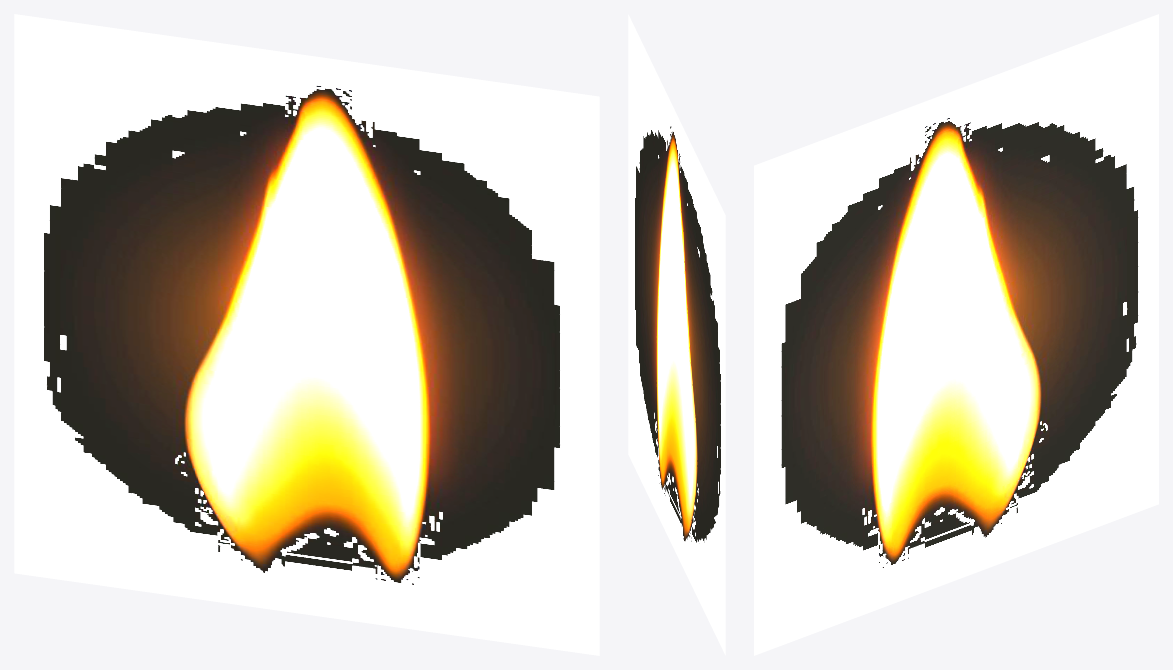
The picture shows the model from 3 angles, left to right: view 1: azimuth 30°, elevation 25°; view 2: azimuth 150°, elevation 25°; view 3: azimuth 270°, elevation 25°; orthographic projection. The views are drawn at different scales.
Parts seen in each view (by area): view 1: _68; view 2: _68; view 3: _68.
Boxes of the visible parts, box(x1,y1,x2,y2) form: _68: box(14, 14, 599, 655); _68: box(628, 14, 725, 655); _68: box(754, 14, 1158, 655).
Bounding box in the file's own units: 4.24 × 6.4 × 4.79.
